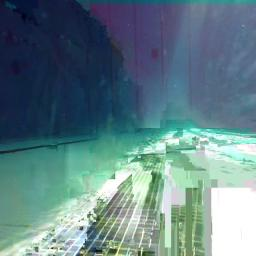Full: (151, 49, 159, 58)
